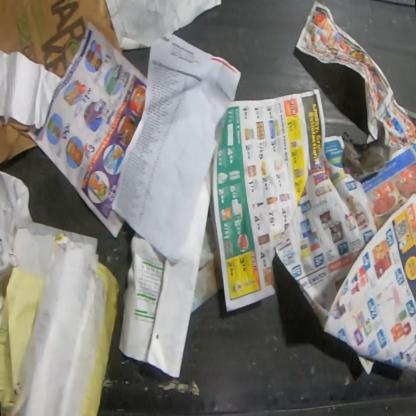cardboard: (0, 0, 124, 79), (0, 115, 37, 169)
